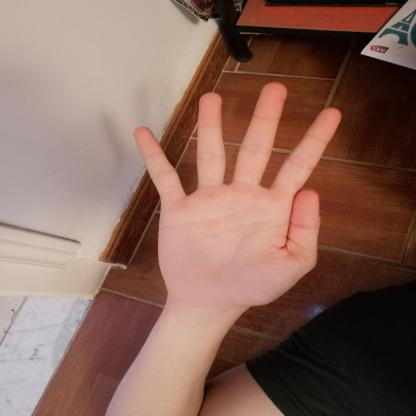SHEEN: (118, 75, 357, 319)
